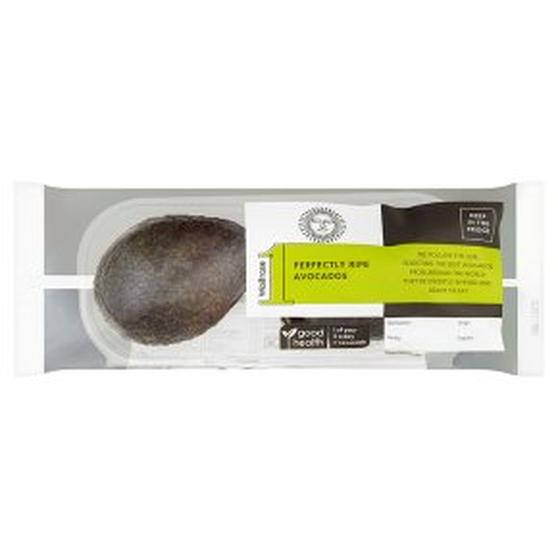avocado: (98, 215, 245, 360)
